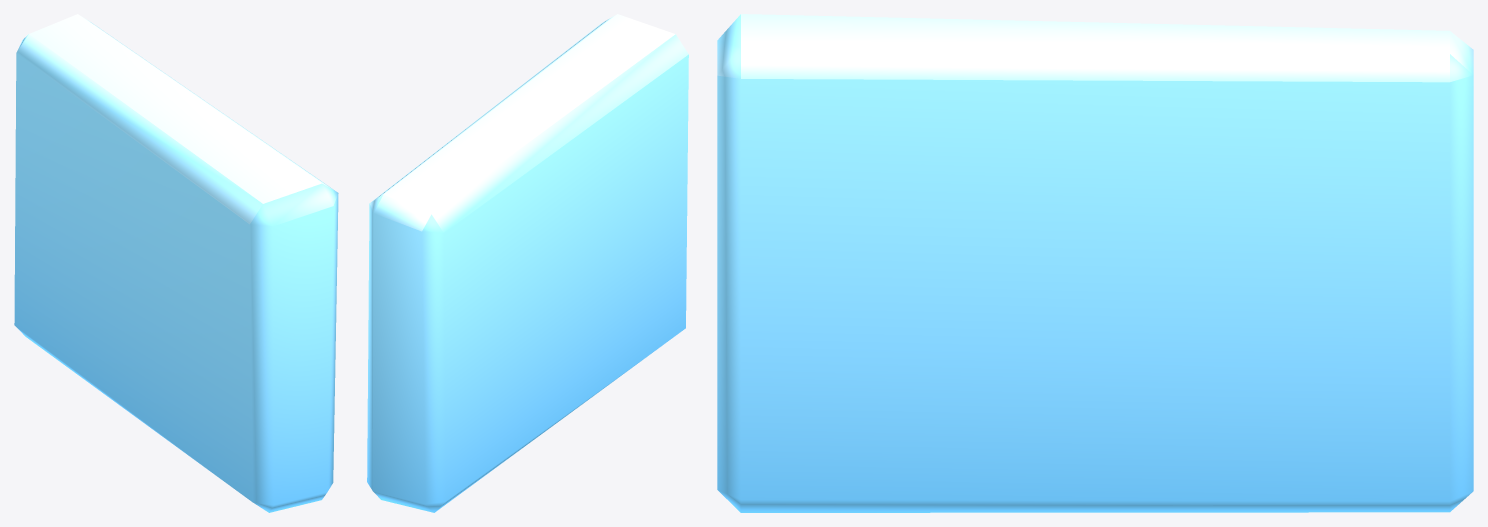
File: prop.glacier_iceblock.glb
3 renders of one model, left to right at view 1: azimuth 30°, elevation 25°; view 2: azimuth 150°, elevation 25°; view 3: azimuth 270°, elevation 25°, orthographic. The views are drawn at different scales.
Parts seen in each view (by area): view 1: glacier_iceblock; view 2: glacier_iceblock; view 3: glacier_iceblock.
Boxes of the visible parts, box(x1,y1,x2,y2) form: glacier_iceblock: box(14, 14, 338, 512); glacier_iceblock: box(367, 14, 688, 512); glacier_iceblock: box(717, 14, 1473, 512).
Bounding box in the file's own units: 1.91 × 6.52 × 9.6.
